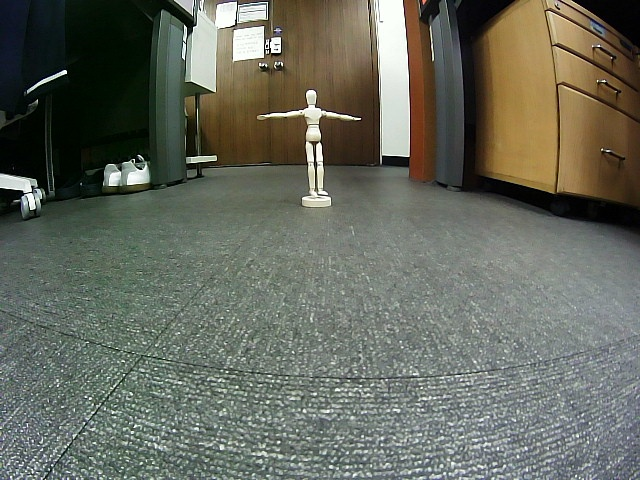person: (256, 90, 360, 196)
